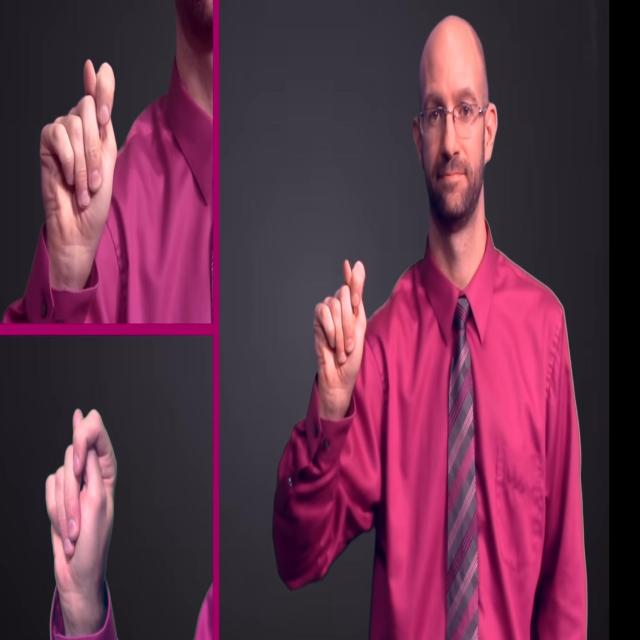T: (38, 55, 120, 256), (42, 402, 120, 596), (310, 255, 369, 400)
